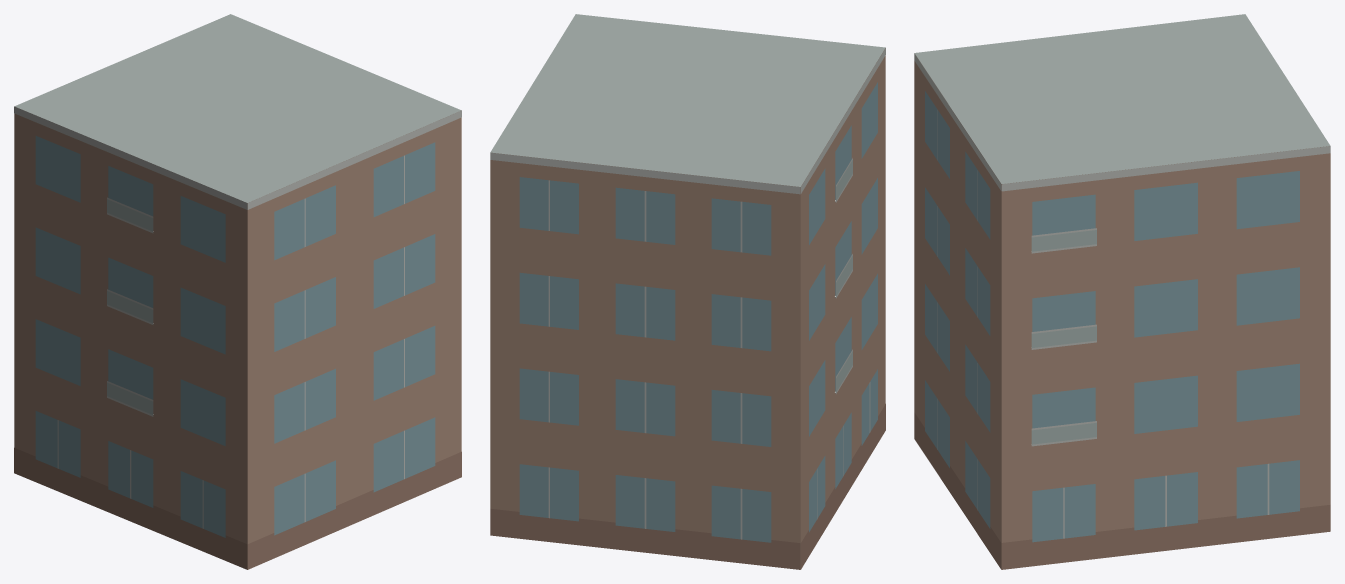
File: survey-upis-32756719.glb
3 renders of one model, left to right at view 1: azimuth 30°, elevation 25°; view 2: azimuth 150°, elevation 25°; view 3: azimuth 270°, elevation 25°, orthographic. The views are drawn at different scales.
Visible parts, largest first — view 1: survey-upis-32756719.tmp; view 2: survey-upis-32756719.tmp; view 3: survey-upis-32756719.tmp.
Part boxes in pixels (x1,y1,x2,y2): survey-upis-32756719.tmp: [14, 14, 461, 569]; survey-upis-32756719.tmp: [490, 14, 885, 569]; survey-upis-32756719.tmp: [914, 14, 1330, 569].
Bounding box in the file's own units: 12.12 × 12.8 × 12.53.
